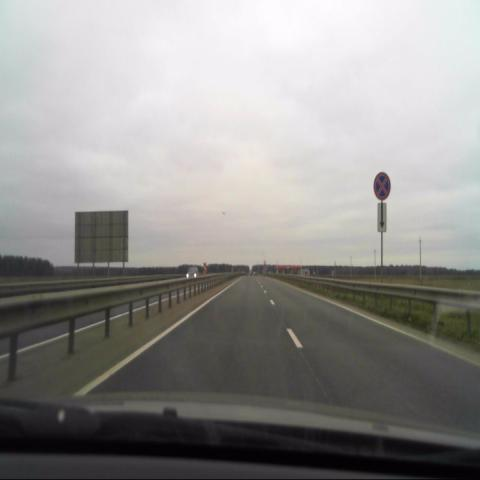8_2_3: (378, 201, 387, 232)
